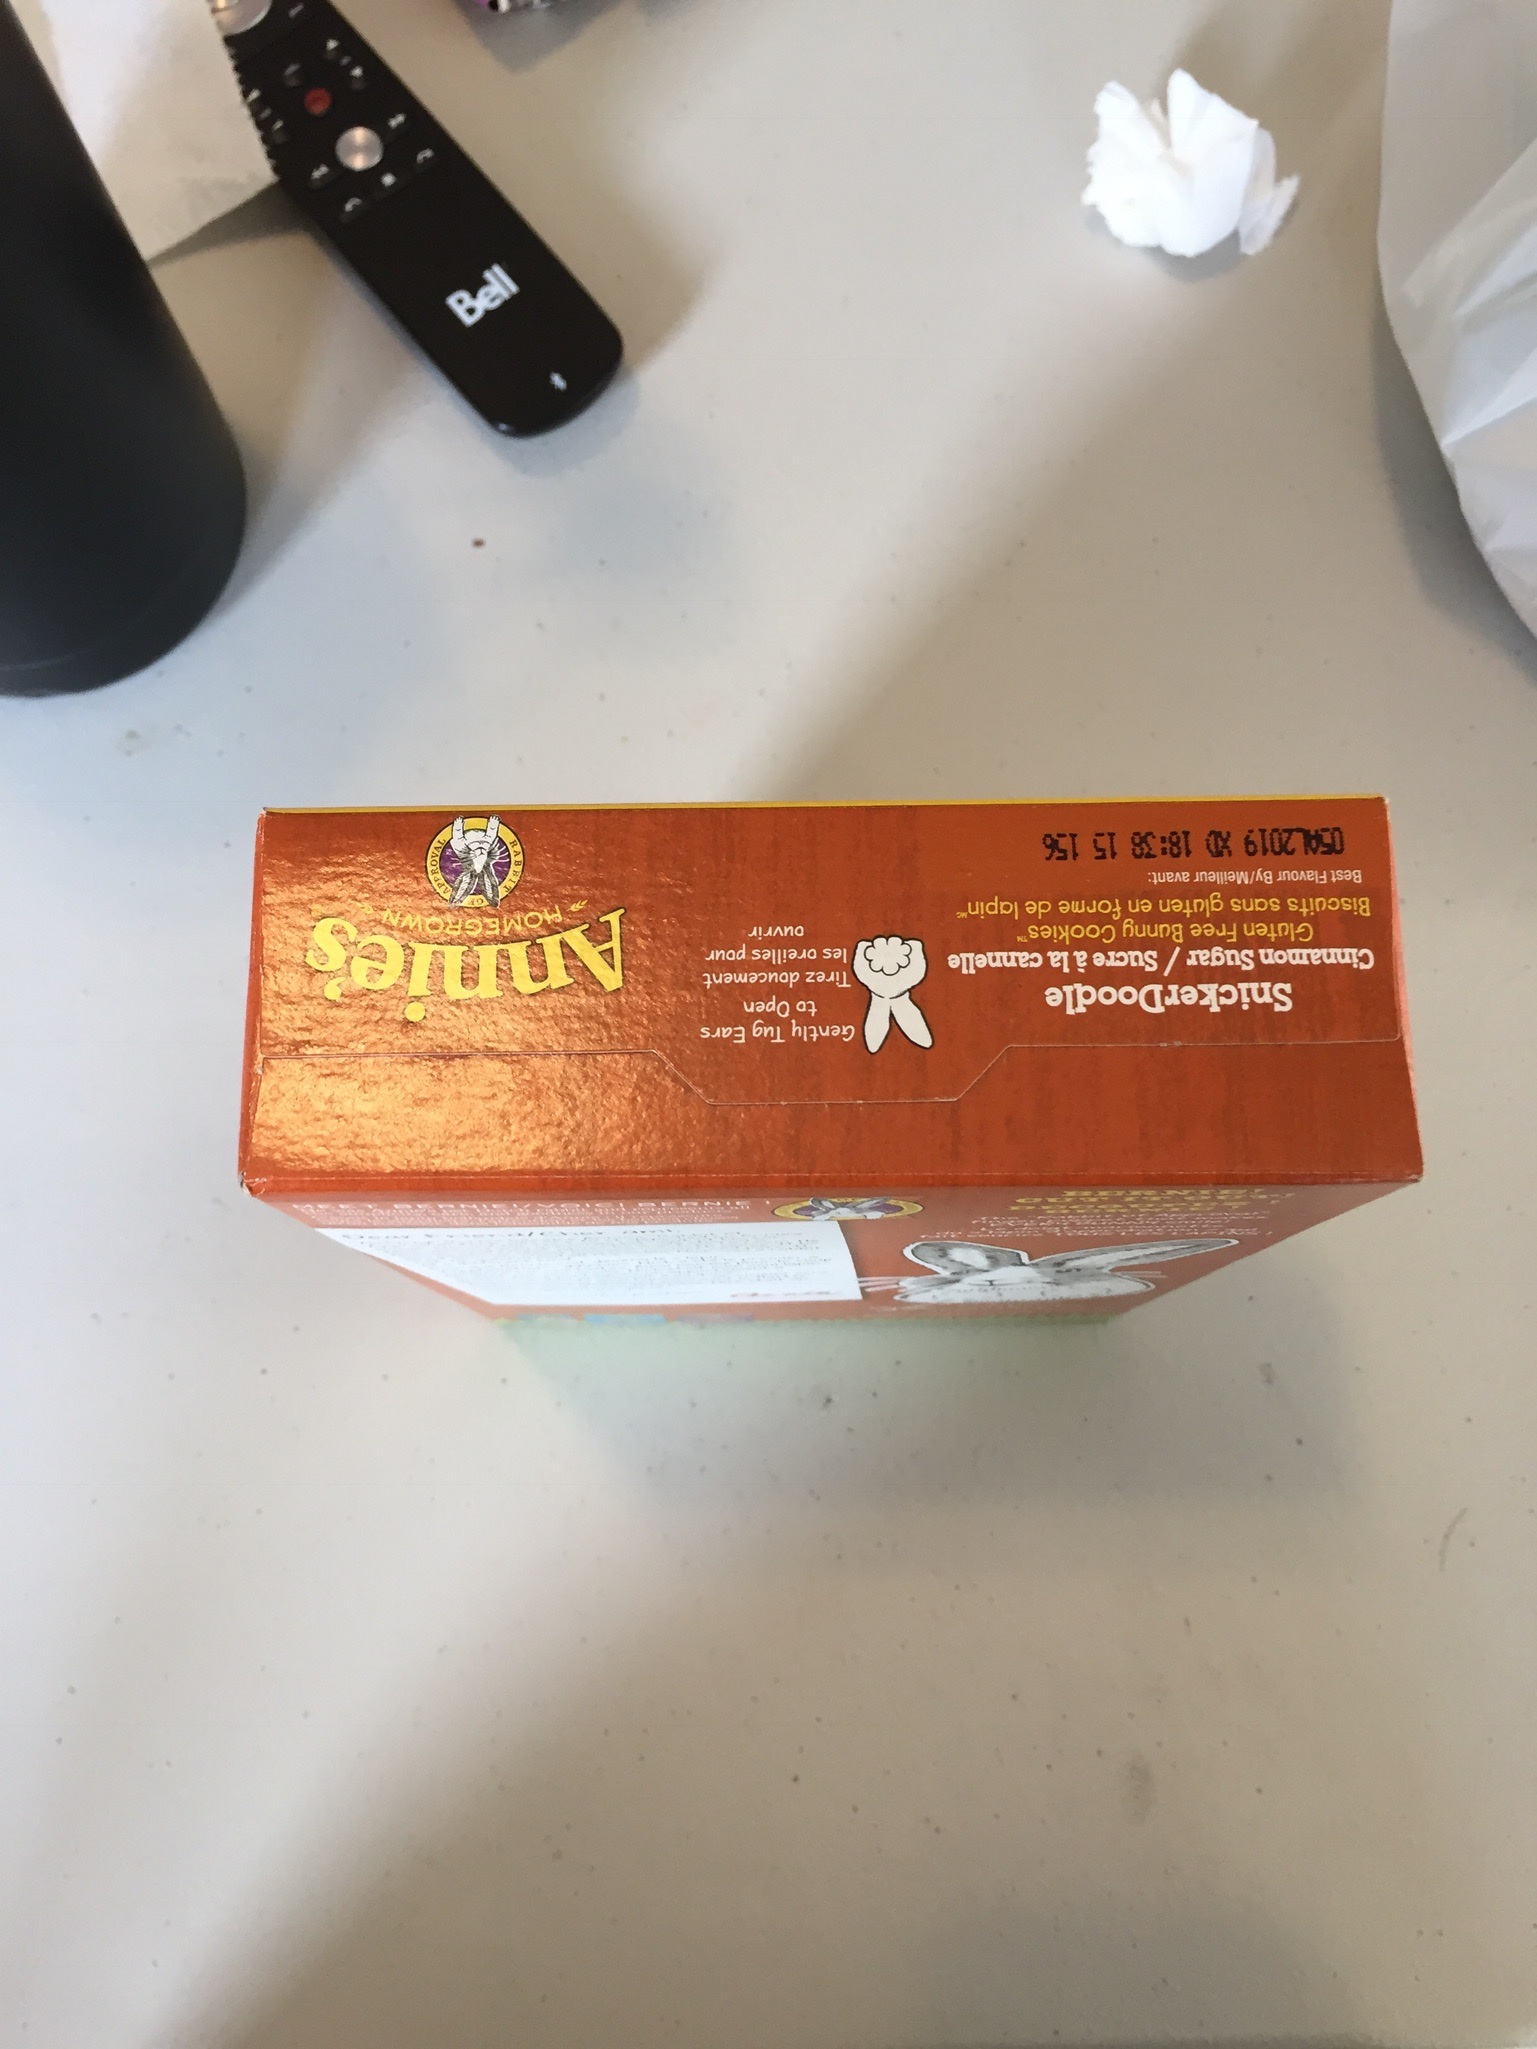annies_snickerdoodles_cinnamon_sugar: (266, 819, 1384, 1154)
